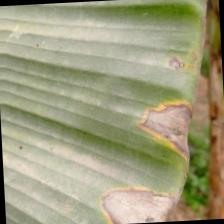cordana: (0, 0, 215, 224)
